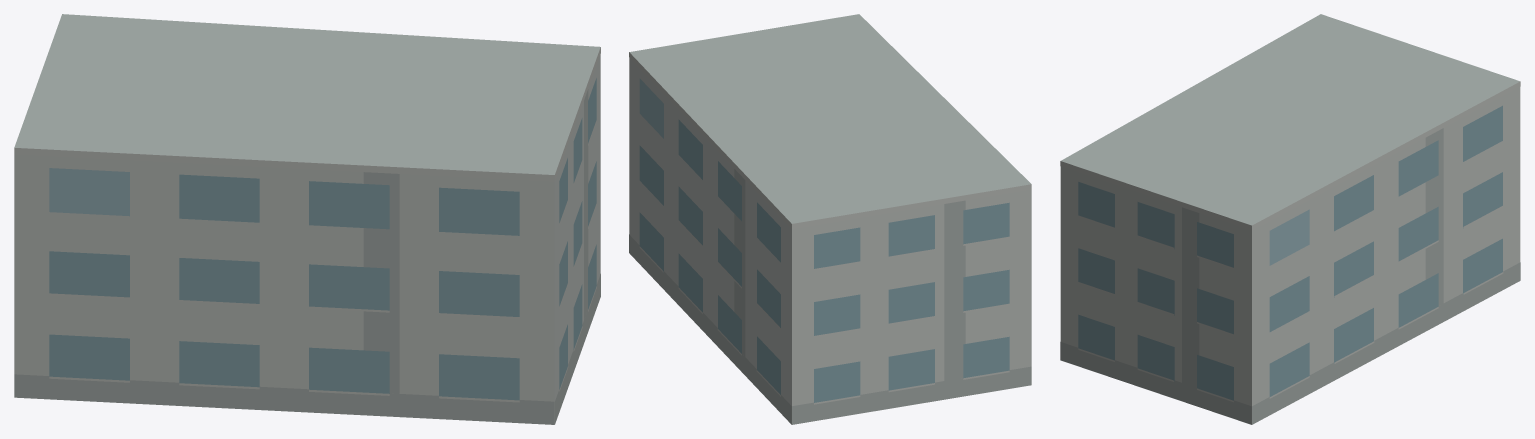
File: survey-upis-32738439.glb
3 renders of one model, left to right at view 1: azimuth 30°, elevation 25°; view 2: azimuth 150°, elevation 25°; view 3: azimuth 270°, elevation 25°, orthographic. The views are drawn at different scales.
Parts seen in each view (by area): view 1: survey-upis-32738439.tmp; view 2: survey-upis-32738439.tmp; view 3: survey-upis-32738439.tmp.
Part boxes in pixels (box(x1,y1,x2,y2)): survey-upis-32738439.tmp: box(14, 14, 600, 424); survey-upis-32738439.tmp: box(629, 14, 1031, 424); survey-upis-32738439.tmp: box(1060, 14, 1520, 424).
Size of the model in its own units: 20.84 by 9.15 by 19.15.
